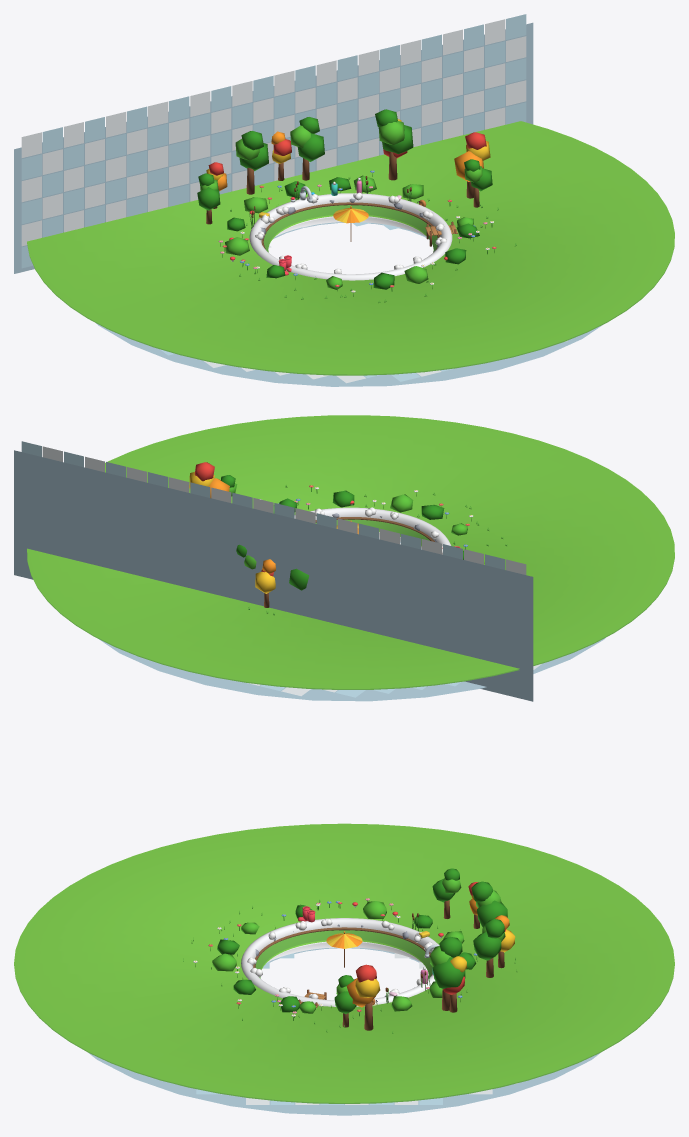
The model's file is arenas.glb.
3 renders of one model, top to bottom at view 1: azimuth 30°, elevation 25°; view 2: azimuth 150°, elevation 25°; view 3: azimuth 270°, elevation 25°, orthographic.
Parts seen in each view (by area): view 1: arena_pond_mesh, arena_bath_mesh, arena_puddle_mesh; view 2: arena_pond_mesh, arena_bath_mesh, arena_puddle_mesh; view 3: arena_pond_mesh, arena_bath_mesh, arena_puddle_mesh.
Part boxes in pixels (box(x1,y1,x2,y2)): arena_pond_mesh: box(27, 109, 674, 374); arena_bath_mesh: box(14, 14, 602, 386); arena_puddle_mesh: box(27, 119, 674, 375); arena_pond_mesh: box(27, 415, 674, 688); arena_bath_mesh: box(14, 441, 605, 701); arena_puddle_mesh: box(27, 462, 674, 689); arena_pond_mesh: box(14, 823, 674, 1102); arena_bath_mesh: box(89, 918, 599, 1115); arena_puddle_mesh: box(14, 882, 674, 1103).
Bounding box in the file's own units: 80 × 18.44 × 80.
